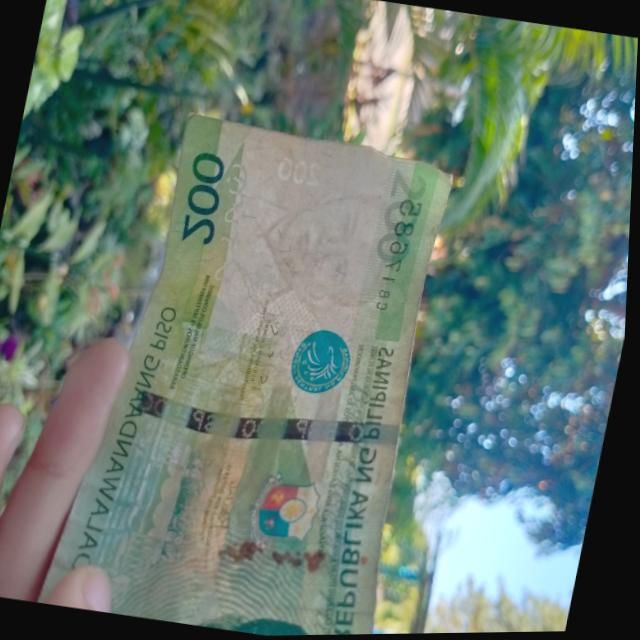security_thread: (122, 378, 407, 466)
see_through_mark: (200, 149, 260, 303)
serial_number: (376, 195, 429, 314)
value_watermark: (264, 149, 331, 200)
watermark: (220, 175, 410, 342)
